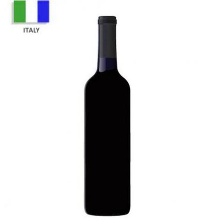bottle: (80, 11, 133, 219)
